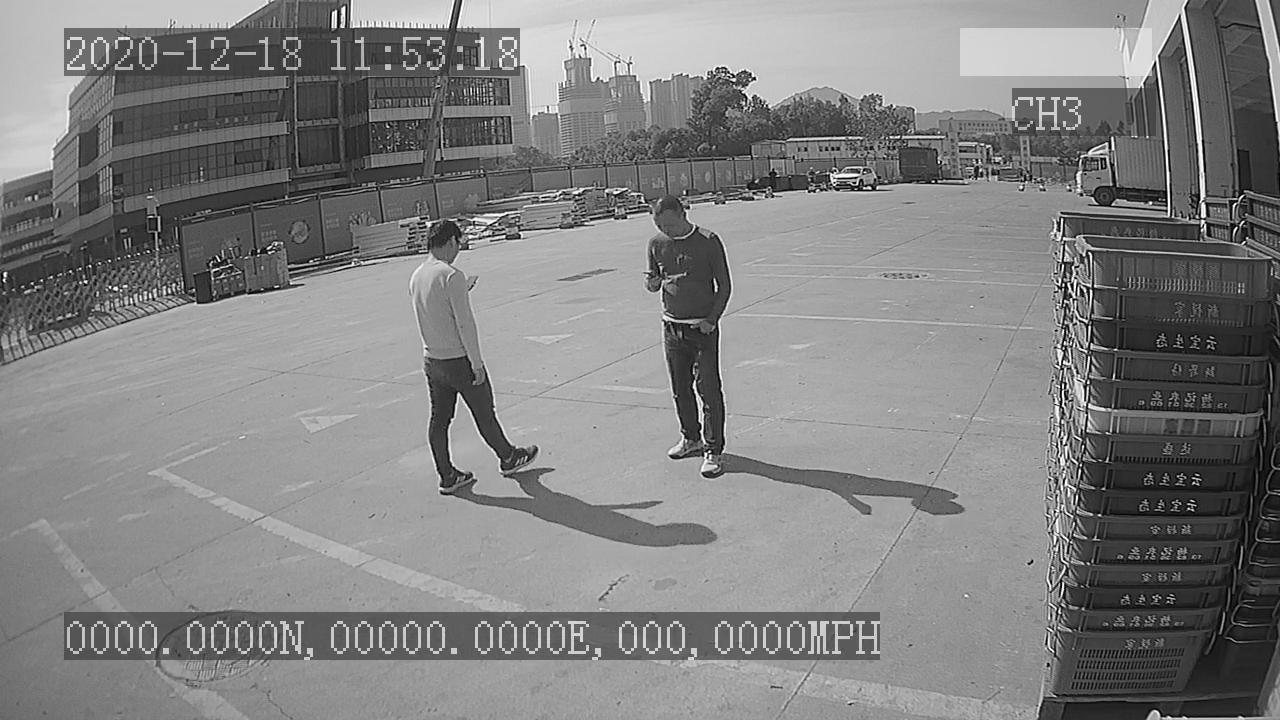person: (402, 213, 543, 499), (642, 190, 742, 485)
